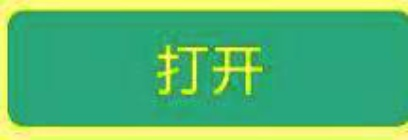Button: (1, 1, 407, 139)
